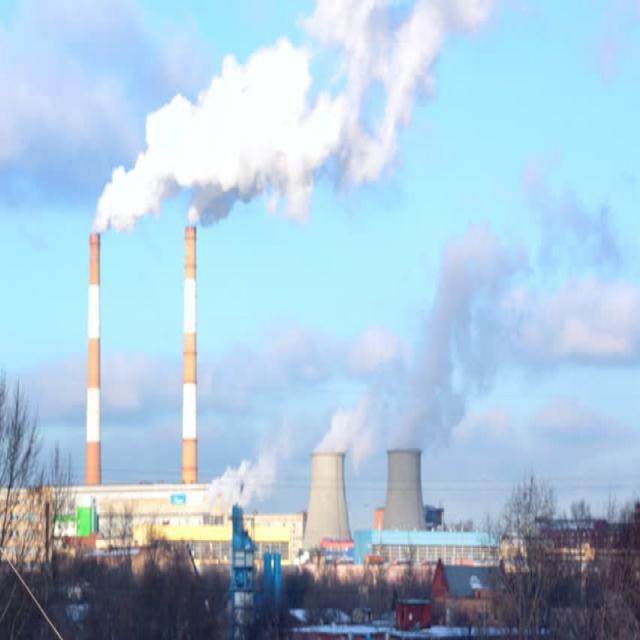Smoke: (313, 146, 627, 478), (92, 0, 494, 235)
